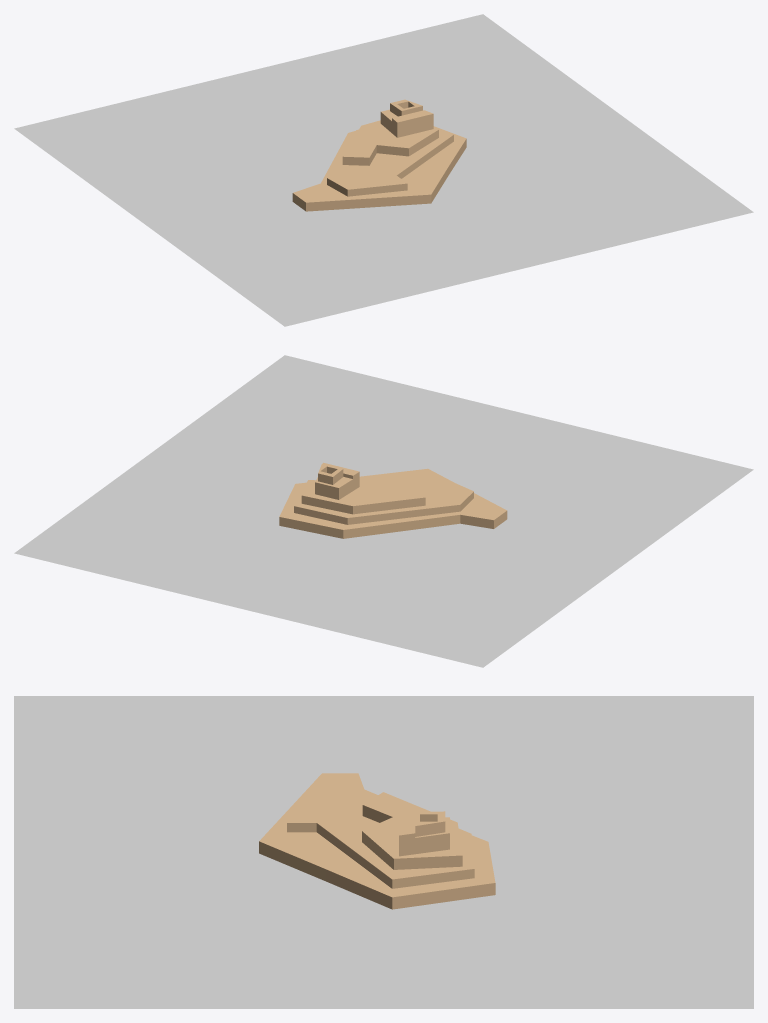
The model's file is Escenario.fbx.
3 renders of one model, top to bottom at view 1: azimuth 30°, elevation 25°; view 2: azimuth 150°, elevation 25°; view 3: azimuth 270°, elevation 25°, orthographic. The views are drawn at different scales.
Parts seen in each view (by area): view 1: lowMask, Obj_Tarima.005, Obj_Tarima.004, Obj_Tarima.003, Obj_Tarima.002; view 2: lowMask, Obj_Tarima.005, Obj_Tarima.004, Obj_Tarima.003, Obj_Tarima.002; view 3: lowMask, Obj_Tarima.005, Obj_Tarima.004, Obj_Tarima.003, Obj_Tarima.002, Obj_Tarima.001.
Part boxes in pixels (x1,y1,x2,y2): lowMask: (14, 14, 753, 326); Obj_Tarima.005: (292, 126, 466, 211); Obj_Tarima.004: (327, 128, 453, 196); Obj_Tarima.003: (342, 120, 438, 165); Obj_Tarima.002: (380, 109, 433, 137); lowMask: (14, 355, 753, 667); Obj_Tarima.005: (279, 468, 507, 538); Obj_Tarima.004: (294, 472, 473, 524); Obj_Tarima.003: (301, 477, 425, 514); Obj_Tarima.002: (315, 462, 359, 499); lowMask: (14, 696, 753, 1008); Obj_Tarima.005: (259, 773, 495, 909); Obj_Tarima.004: (287, 786, 474, 888); Obj_Tarima.003: (362, 792, 462, 869); Obj_Tarima.002: (399, 811, 449, 856); Obj_Tarima.001: (415, 811, 445, 836).
Bounding box in the file's own units: 12516 × 1242 × 12516.
